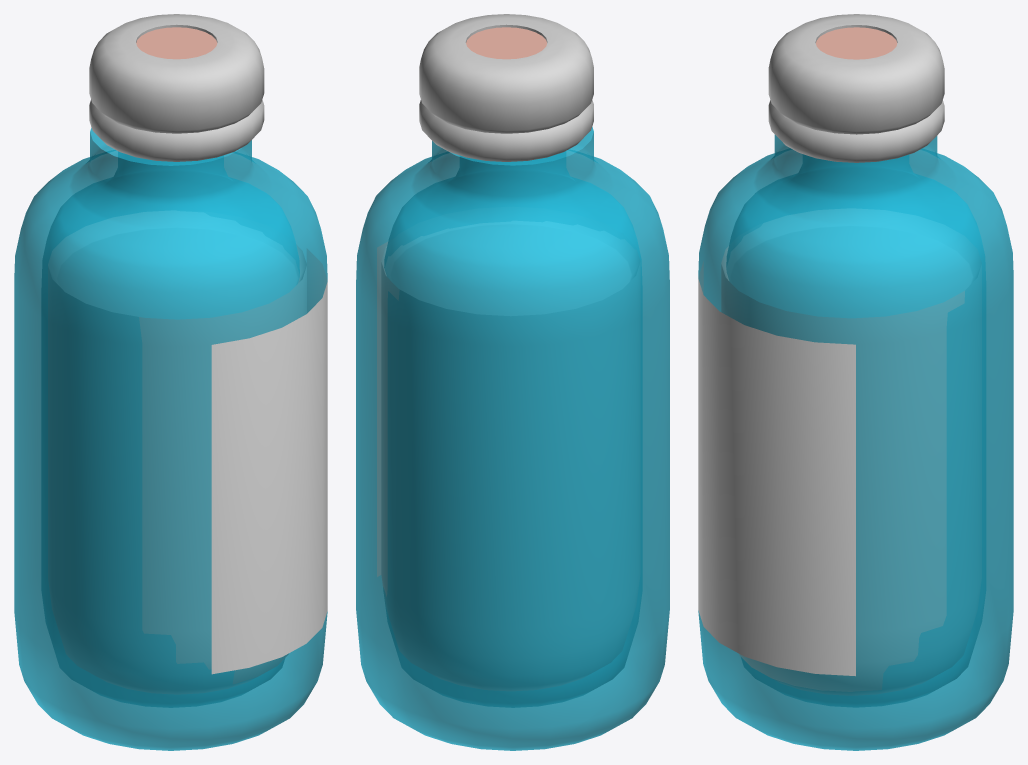
The model's file is vial.gltf.
The picture shows the model from 3 angles, left to right: view 1: azimuth 30°, elevation 25°; view 2: azimuth 150°, elevation 25°; view 3: azimuth 270°, elevation 25°; orthographic projection.
Parts seen in each view (by area): view 1: potion_002_Mesh.012, liquid_unloaded_001_Mesh.010, hcup_002_Mesh.011; view 2: potion_002_Mesh.012, liquid_unloaded_001_Mesh.010, hcup_002_Mesh.011; view 3: potion_002_Mesh.012, liquid_unloaded_001_Mesh.010, hcup_002_Mesh.011.
Part boxes in pixels (x1=…): potion_002_Mesh.012: x1=14, y1=128, x2=327, y2=750; liquid_unloaded_001_Mesh.010: x1=48, y1=211, x2=306, y2=693; hcup_002_Mesh.011: x1=89, y1=14, x2=264, y2=161; potion_002_Mesh.012: x1=356, y1=127, x2=669, y2=750; liquid_unloaded_001_Mesh.010: x1=381, y1=221, x2=639, y2=690; hcup_002_Mesh.011: x1=419, y1=14, x2=593, y2=161; potion_002_Mesh.012: x1=698, y1=134, x2=1013, y2=750; liquid_unloaded_001_Mesh.010: x1=721, y1=209, x2=981, y2=695; hcup_002_Mesh.011: x1=768, y1=14, x2=944, y2=162.
Bounding box in the file's own units: 0.0242 × 0.056 × 0.0242.
